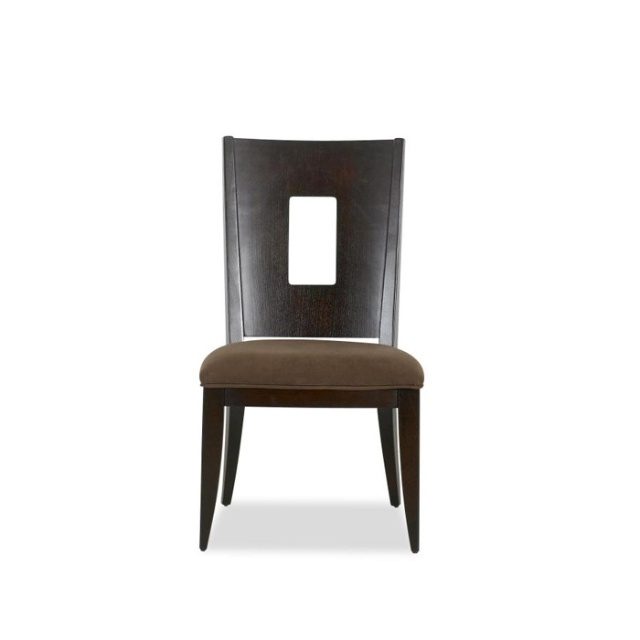obstacle: (200, 137, 422, 551)
